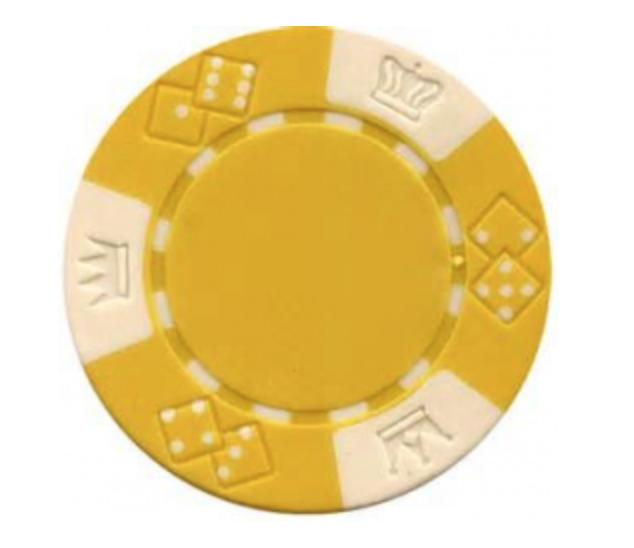chip-yellow: (66, 27, 550, 511)
